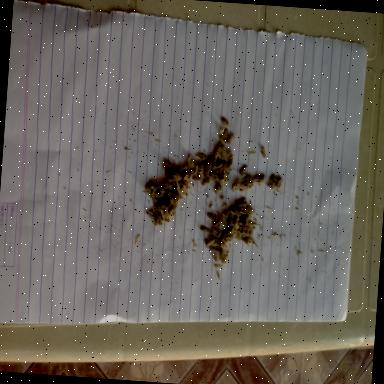pbw: (208, 224, 222, 238), (212, 142, 221, 163), (218, 127, 228, 143), (204, 152, 212, 170), (240, 182, 254, 192), (211, 248, 220, 262), (172, 171, 184, 181), (189, 170, 201, 180), (161, 180, 173, 190), (149, 184, 157, 198), (220, 116, 230, 127), (195, 151, 207, 160), (144, 179, 152, 192), (232, 206, 242, 216), (219, 144, 226, 158), (168, 204, 176, 216), (204, 163, 212, 175), (204, 238, 212, 250), (222, 150, 231, 160), (157, 202, 166, 212), (153, 210, 159, 225), (223, 162, 232, 172), (232, 182, 241, 191), (239, 165, 247, 175), (145, 210, 155, 218), (202, 176, 210, 186), (220, 213, 227, 224), (163, 169, 170, 180), (227, 133, 234, 144), (148, 183, 154, 195), (157, 213, 163, 225), (252, 176, 264, 182), (276, 176, 282, 188), (160, 209, 166, 220), (268, 231, 276, 239), (228, 213, 233, 225), (261, 146, 266, 158), (206, 212, 214, 219), (164, 206, 168, 219), (194, 163, 198, 175), (151, 197, 156, 206), (225, 208, 230, 217), (227, 154, 233, 161), (201, 225, 208, 231), (216, 161, 222, 168), (216, 270, 220, 280), (192, 239, 197, 247), (228, 157, 232, 166), (214, 264, 223, 268), (228, 209, 235, 214), (160, 188, 168, 192)
